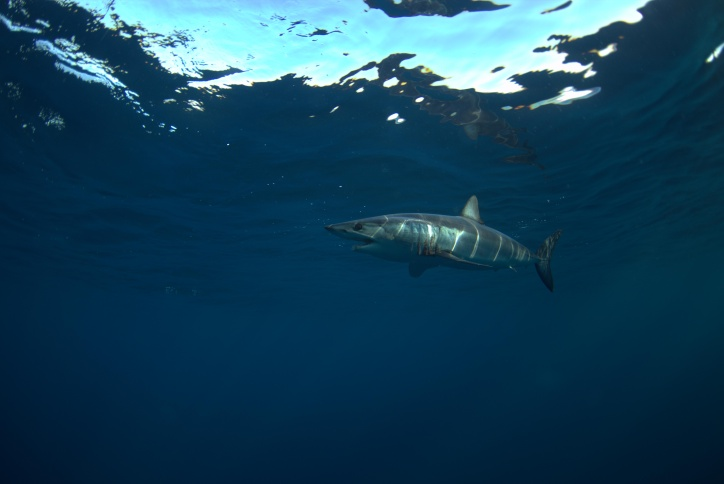Mako: (314, 190, 570, 300)
